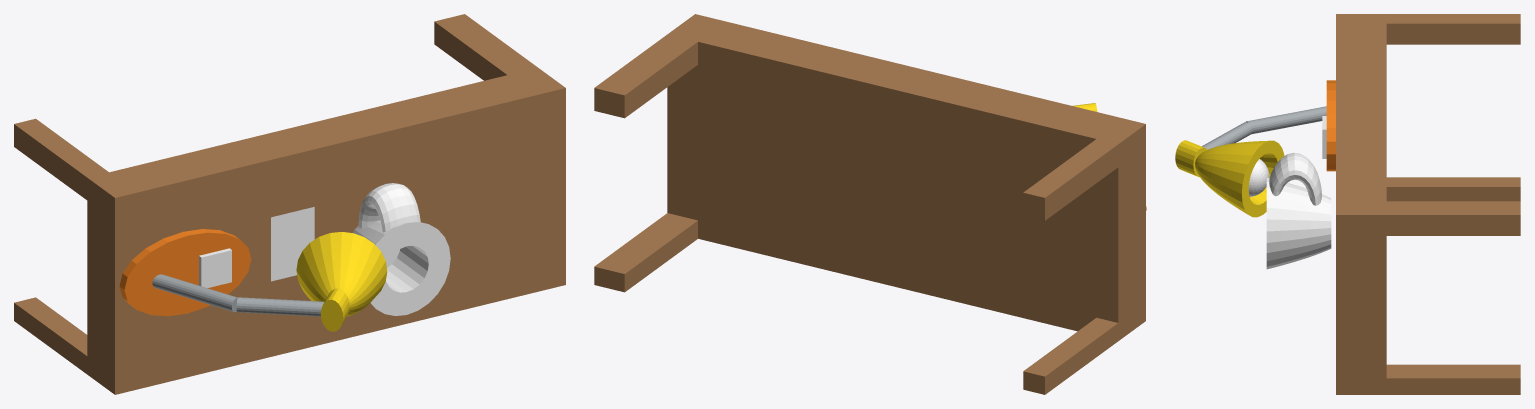
The model's file is tinker.obj.
3 views of the same model, side by side, from view 1: azimuth 30°, elevation 25°; view 2: azimuth 150°, elevation 25°; view 3: azimuth 270°, elevation 25° (orthographic). The views are drawn at different scales.
Parts seen in each view (by area): view 1: group_0_11107152, group_0_16448250, group_0_16089887, group_0_16768282, group_0_10988977; view 2: group_0_11107152; view 3: group_0_11107152, group_0_16448250, group_0_16768282, group_0_10988977, group_0_16089887.
Boxes of the visible parts, x1,y1,x2,y2 form: group_0_11107152: (14,14,565,394); group_0_16448250: (199,183,450,315); group_0_16089887: (119,229,251,316); group_0_16768282: (296,232,387,331); group_0_10988977: (152,274,324,316); group_0_11107152: (594,14,1145,394); group_0_11107152: (1336,14,1520,394); group_0_16448250: (1248,116,1331,269); group_0_16768282: (1175,140,1284,217); group_0_10988977: (1202,106,1326,149); group_0_16089887: (1326,80,1335,171).
Size of the model in its own units: 103 by 43 by 74.82.
